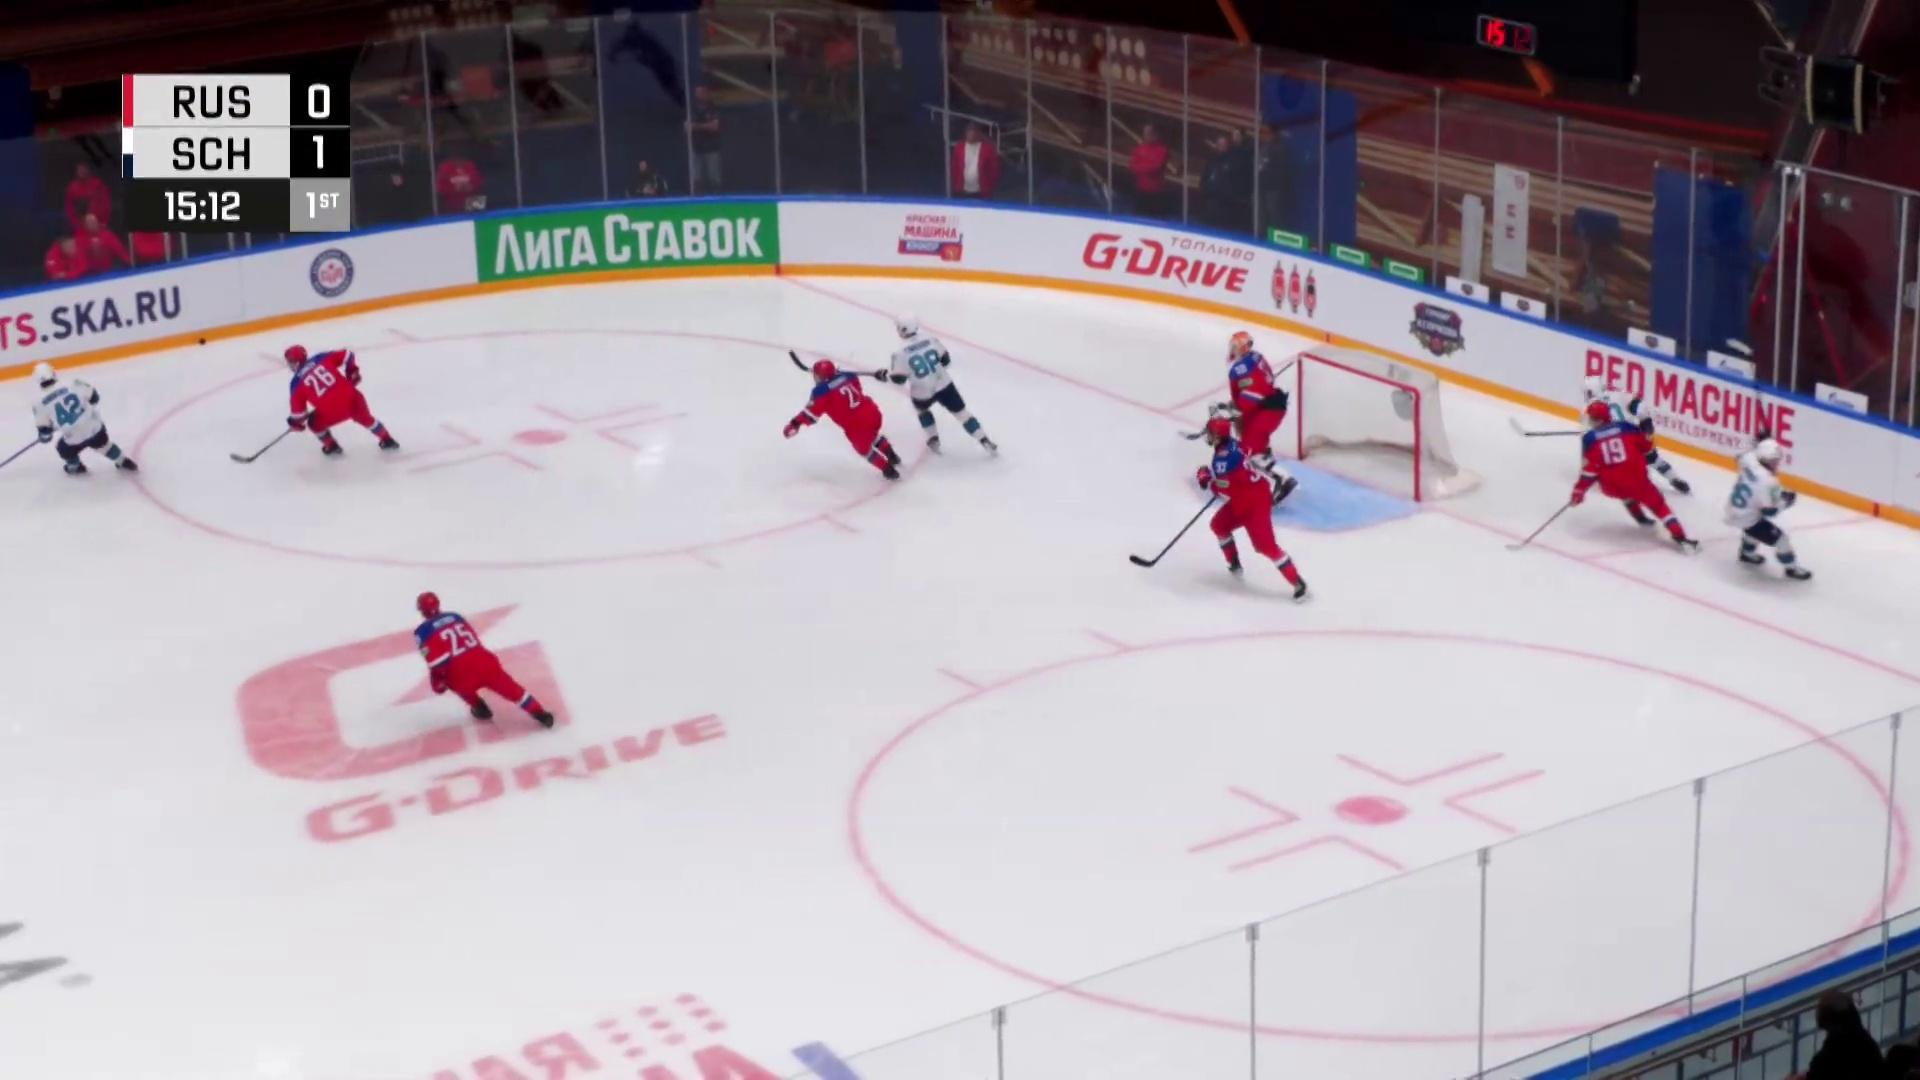ball: (198, 338, 206, 345)
